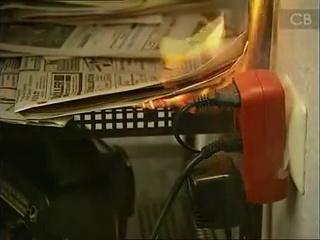Fire: (130, 0, 274, 113)
